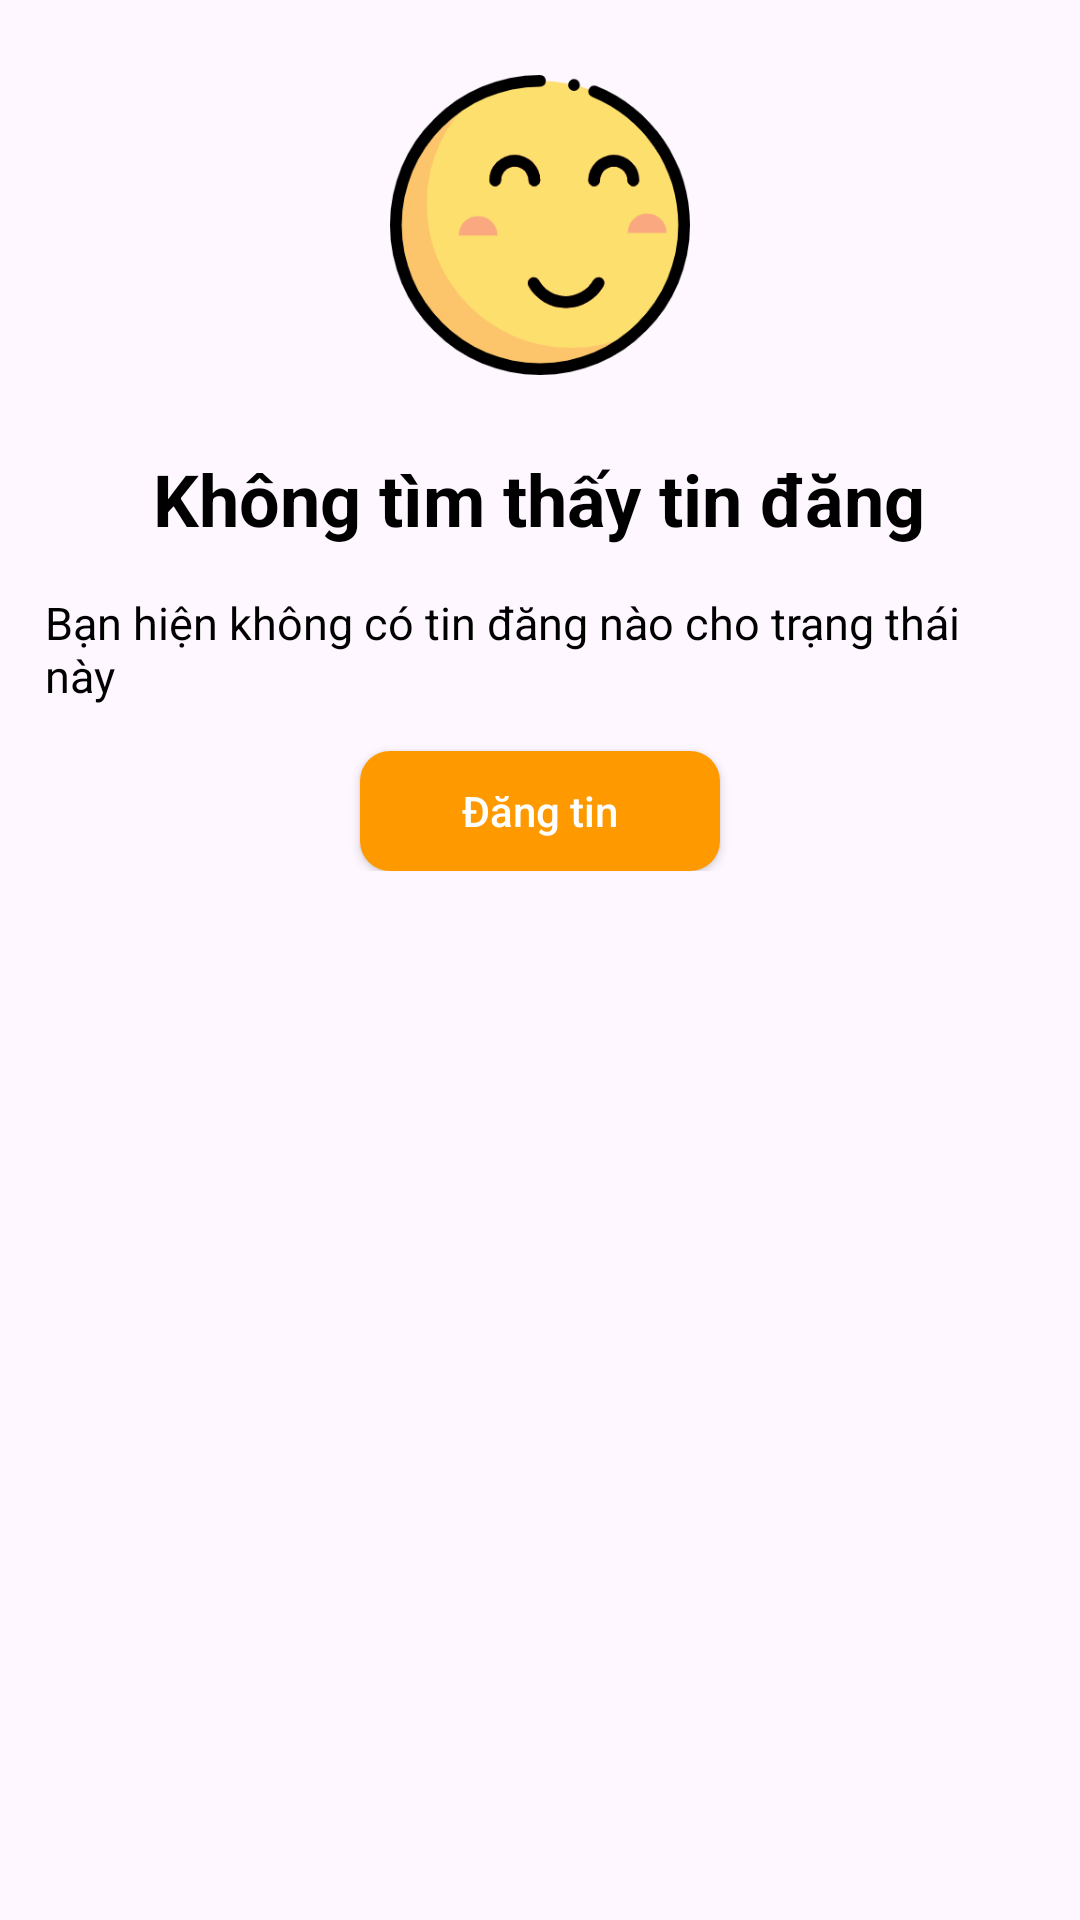

Point at icon controls on the screen. Image size 1080px×1920px, points as [x,y].
smile: [540,225]
